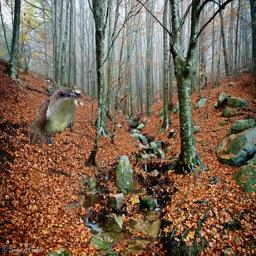Cuckoo: (29, 87, 78, 144)
